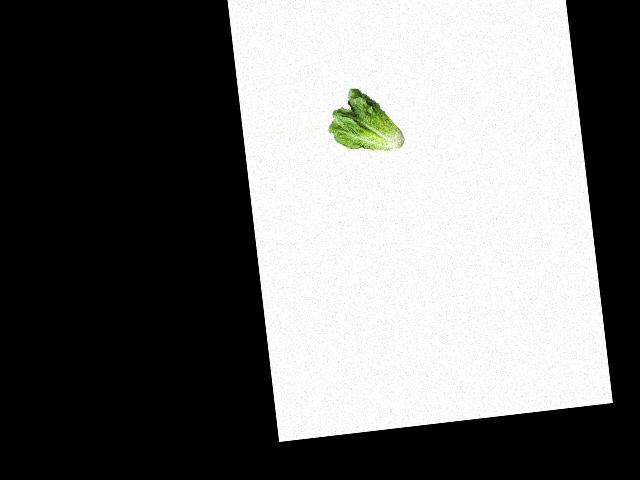lettuce: (322, 81, 405, 159)
